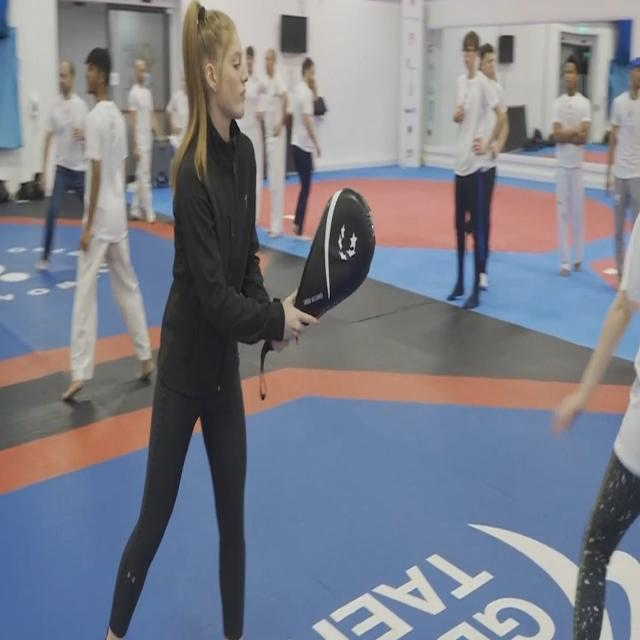paddle: (294, 183, 378, 325)
